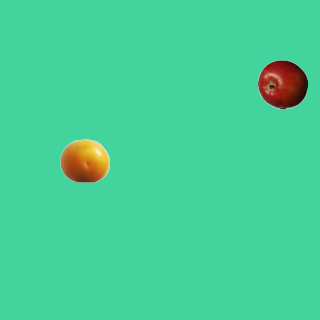Apple Braeburn: (257, 59, 307, 109)
Cherry Wax Yellow: (59, 135, 109, 185)
